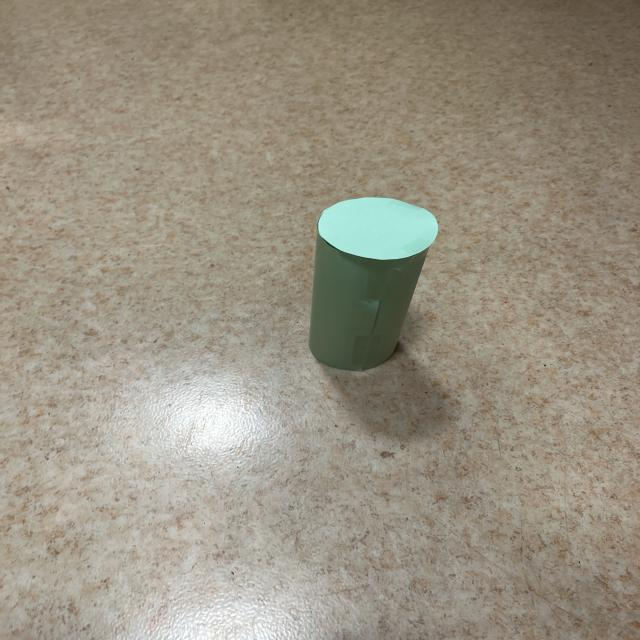meta: (309, 197, 438, 371)
